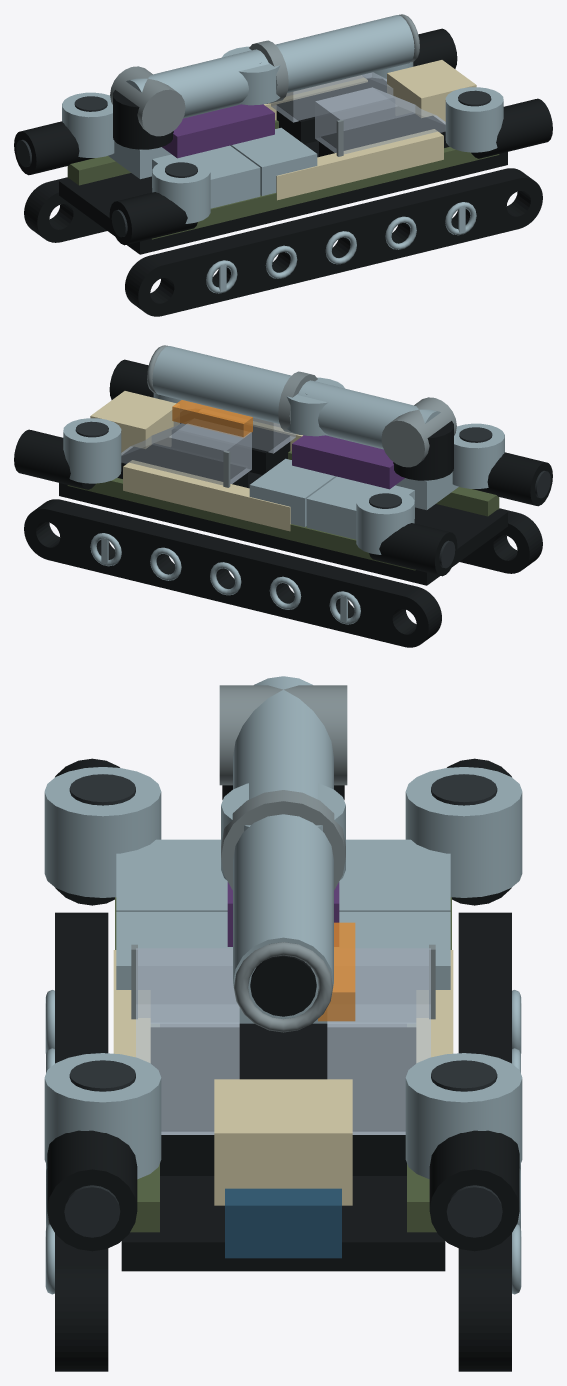
Rendered from modern-tank.glb.
The picture shows the model from 3 angles, top to bottom: view 1: azimuth 30°, elevation 25°; view 2: azimuth 150°, elevation 25°; view 3: azimuth 270°, elevation 25°; orthographic projection. The views are drawn at different scales.
Visible parts, largest first — view 1: Perforated Technic track beam (×2), Segmented light-blue cannon (×2), Longitudinal corner tube (×4), Open blue corner socket (×3), Sloped clear side canopy (×2), Open central spine, Tan side stripe (×2), Clear cabin sill (×2), Olive hull edge (×2), Rear roof tile one (×2), Purple cannon support, Cream nose block (+7 smaller); view 2: Perforated Technic track beam (×2), Segmented light-blue cannon (×2), Longitudinal corner tube (×4), Open blue corner socket (×3), Open central spine, Sloped clear side canopy (×2), Clear cabin sill (×2), Tan side stripe, Olive hull edge (×2), Rear roof tile one (×2), Purple cannon support, Cream nose block (+8 smaller); view 3: Open blue corner socket (×4), Sloped clear side canopy (×2), Perforated Technic track beam (×2), Segmented light-blue cannon (×2), Rear roof tile two (×2), Open central spine, Clear cabin sill (×2), Longitudinal corner tube (×4), Cream nose block, Rear roof tile one (×2), Blue nose brick, Corner socket recess (×4) (+9 smaller).
Boxes of the visible parts, x1,y1,x2,y2 form: Perforated Technic track beam (×2): (24,168,542,316); Segmented light-blue cannon (×2): (126,15,414,118); Longitudinal corner tube (×4): (14,28,552,245); Open blue corner socket (×3): (62,87,503,223); Sloped clear side canopy (×2): (270,72,445,154); Open central spine: (59,141,507,254); Tan side stripe (×2): (264,76,443,200); Clear cabin sill (×2): (276,77,449,156); Olive hull edge (×2): (67,120,499,239); Rear roof tile one (×2): (108,141,260,208); Purple cannon support: (162,104,274,158); Cream nose block: (387,60,476,123); Perforated Technic track beam (×2): (24,499,542,647); Segmented light-blue cannon (×2): (152,346,440,449); Longitudinal corner tube (×4): (14,359,552,576); Open blue corner socket (×3): (63,418,504,554); Open central spine: (59,472,507,585); Sloped clear side canopy (×2): (121,404,296,485); Clear cabin sill (×2): (117,423,290,487); Tan side stripe: (123,460,290,531); Olive hull edge (×2): (67,451,499,570); Rear roof tile one (×2): (306,472,458,539); Purple cannon support: (292,435,404,489); Cream nose block: (90,391,179,454); Open blue corner socket (×4): (44,767,522,1179); Sloped clear side canopy (×2): (136,948,430,1134); Perforated Technic track beam (×2): (55,912,511,1371); Segmented light-blue cannon (×2): (233,676,333,1018); Rear roof tile two (×2): (116,912,450,1023); Open central spine: (121,1023,445,1271); Clear cabin sill (×2): (151,1027,415,1175); Longitudinal corner tube (×4): (47,758,519,1251); Cream nose block: (214,1079,352,1205); Rear roof tile one (×2): (116,839,450,911); Blue nose brick: (225,1188,341,1258); Corner socket recess (×4): (69,774,497,1091).
Size of the model in its own units: 3.7 by 1.59 by 1.8.
